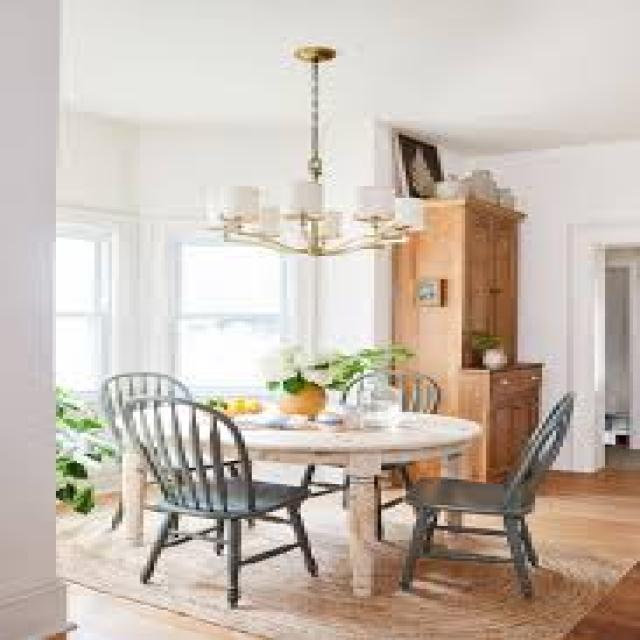obstacle: (86, 349, 316, 609), (419, 402, 628, 619)
